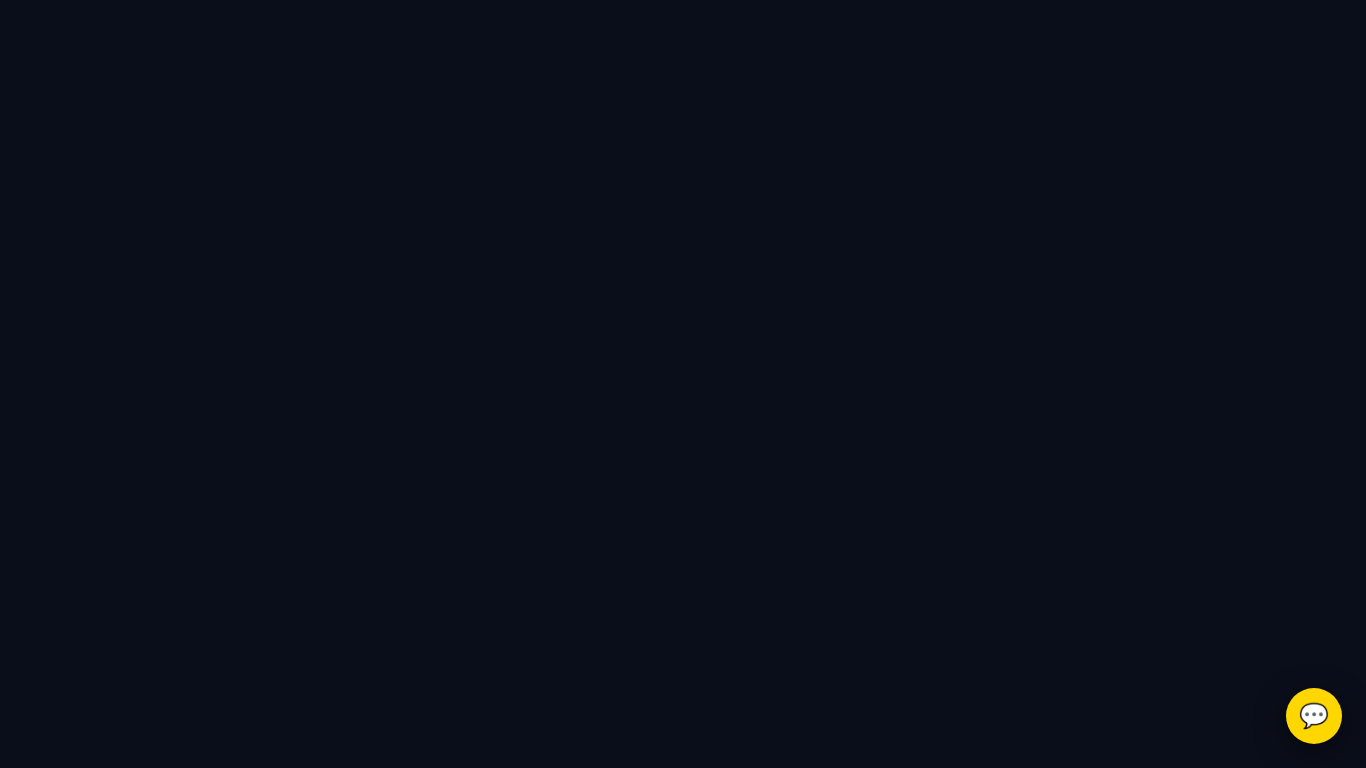
Test case: RoomChatLauncher › sends messages through the room message API
The width and height of the screenshot is (1366, 768).
Click the button named "open room chat". click: (1314, 716)
box: [1286, 688, 1342, 744]
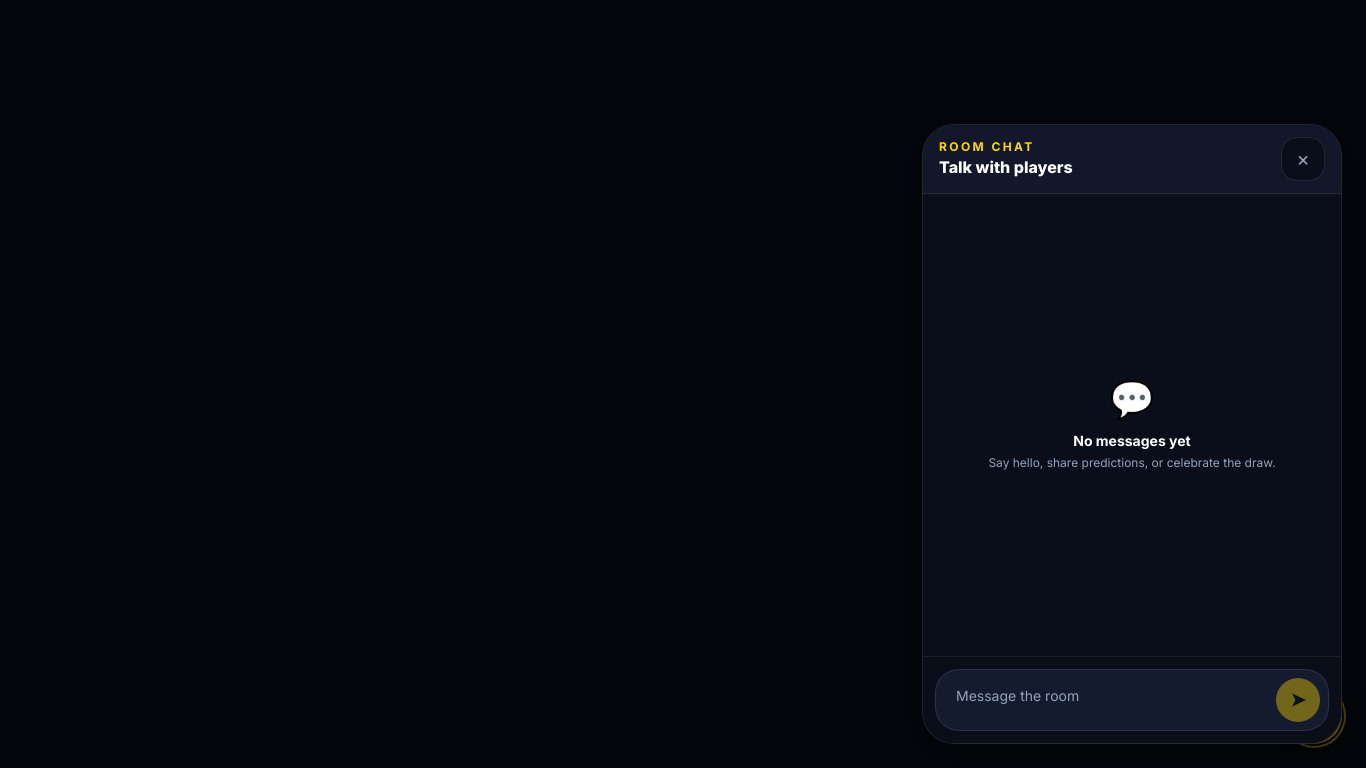
Now the text "No messages yet" is shown, box [1073, 431, 1191, 451]
Type "Good luck" into the text box labelled "Message the room". click: (1106, 700)
box: [944, 678, 1268, 722]
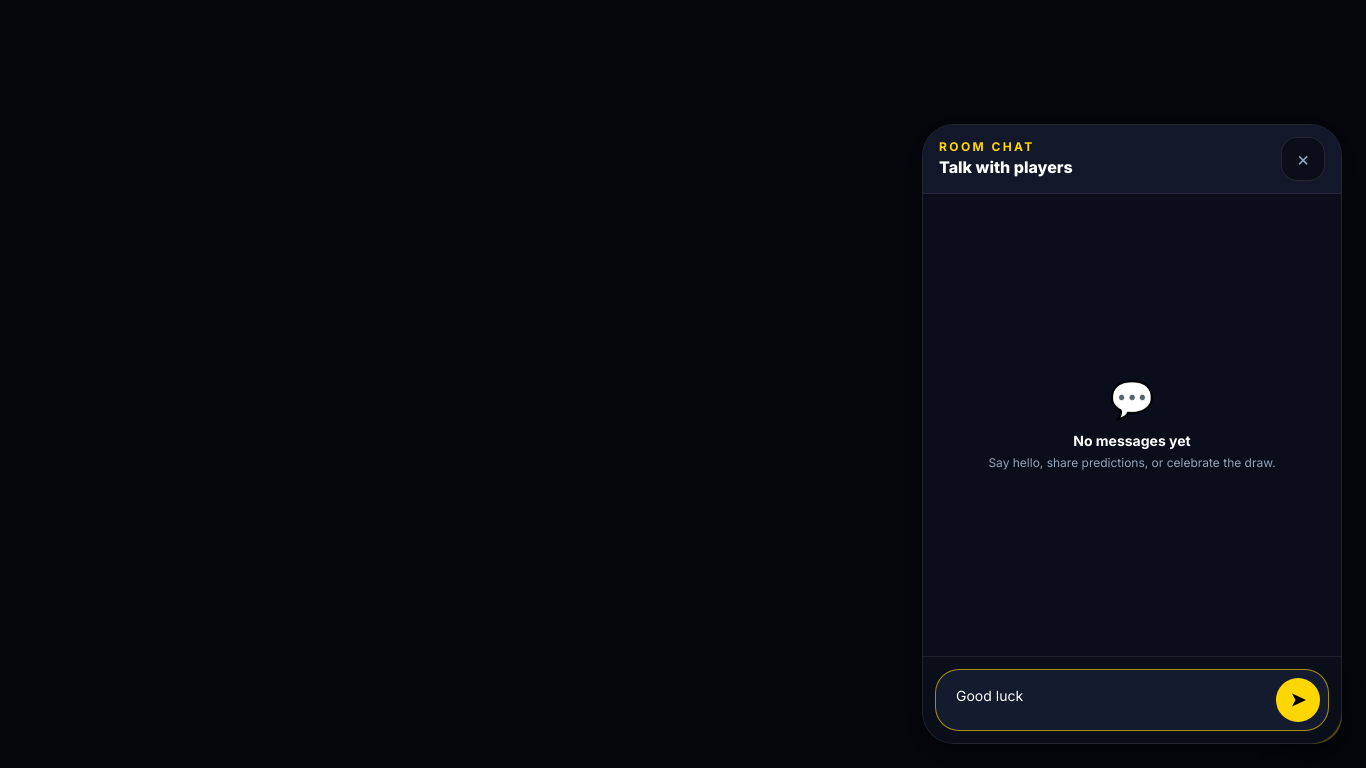
Click the button named "send message". click: (1298, 700)
box: [1276, 678, 1320, 722]
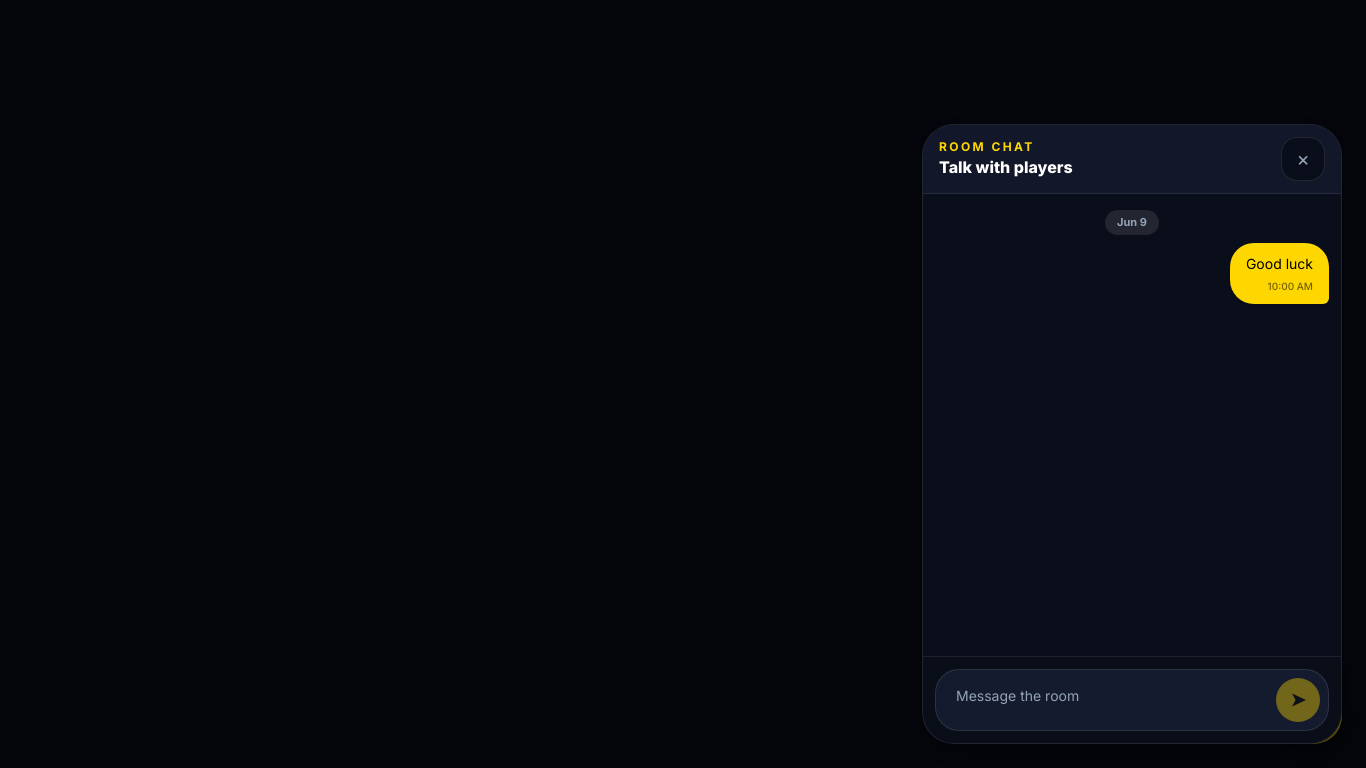
Now the text "Good luck" is shown, box [1246, 252, 1313, 275]
